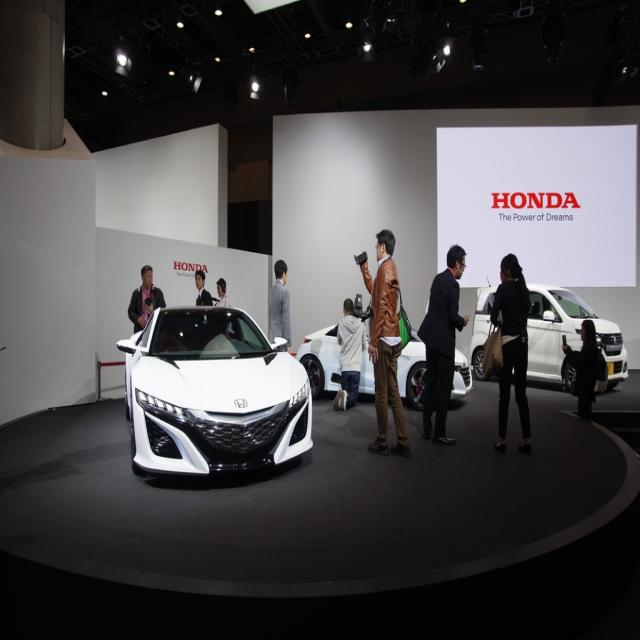car: (117, 289, 317, 484)
